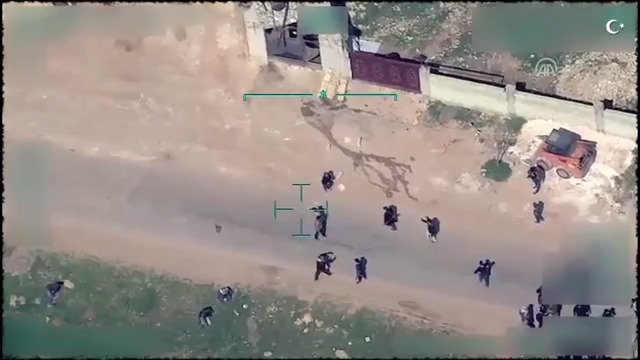insan: (310, 249, 339, 279), (382, 200, 401, 239)
